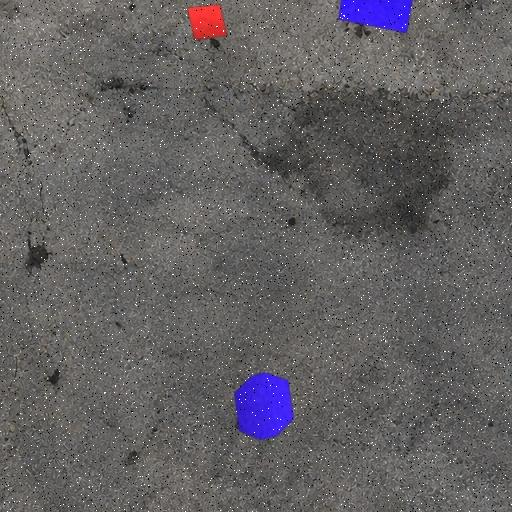BLUE_SQUARE: (337, 0, 419, 34)
RED_SQUARE: (186, 3, 228, 41)
